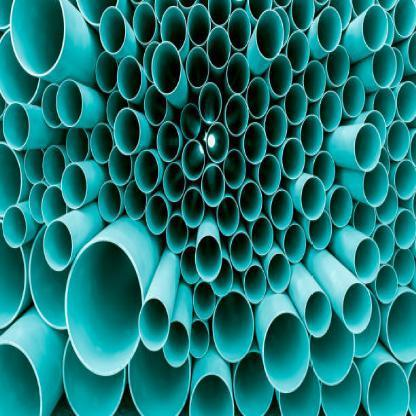pipe: (64, 237, 144, 376), (63, 337, 126, 415), (128, 339, 192, 415), (29, 223, 68, 330), (10, 1, 64, 76), (262, 311, 310, 392), (308, 309, 354, 386), (0, 340, 43, 415), (212, 290, 254, 362), (0, 29, 40, 104), (232, 349, 274, 415), (367, 360, 410, 415), (278, 363, 322, 415), (320, 362, 362, 414), (386, 289, 415, 363), (188, 372, 235, 415), (0, 142, 22, 217), (139, 297, 170, 350), (152, 42, 182, 94), (342, 283, 372, 334), (43, 220, 73, 270), (256, 10, 284, 61), (2, 101, 30, 150), (304, 290, 332, 338), (354, 124, 381, 172), (99, 6, 126, 54), (163, 320, 190, 368), (195, 235, 222, 282), (61, 162, 87, 210), (362, 4, 388, 52), (56, 79, 82, 127), (114, 108, 140, 155), (363, 162, 389, 207), (354, 237, 380, 282), (160, 6, 186, 51), (317, 6, 342, 52), (300, 176, 326, 220), (117, 56, 142, 100), (372, 43, 396, 88), (42, 185, 68, 226), (134, 150, 158, 193), (98, 180, 122, 223), (2, 205, 26, 248), (224, 95, 249, 136), (201, 164, 225, 206), (328, 186, 352, 228), (286, 30, 310, 72), (326, 45, 350, 87), (268, 54, 292, 96), (342, 76, 366, 118), (207, 26, 230, 69), (186, 46, 209, 89), (282, 138, 306, 179), (300, 114, 323, 156), (206, 122, 229, 164), (133, 2, 156, 44), (228, 8, 251, 50), (95, 50, 118, 92), (247, 77, 270, 119), (198, 82, 221, 124), (319, 90, 342, 132), (156, 122, 180, 162), (42, 146, 66, 186), (312, 151, 336, 191), (267, 254, 291, 294), (394, 158, 416, 201), (188, 3, 210, 46), (264, 106, 287, 147), (90, 123, 113, 164), (258, 154, 281, 195), (375, 263, 398, 304), (226, 53, 249, 94), (303, 61, 326, 102), (284, 84, 307, 125), (144, 85, 167, 126), (387, 120, 410, 160), (109, 146, 132, 186), (223, 149, 246, 189), (163, 162, 186, 202), (239, 181, 262, 221), (375, 184, 398, 224), (271, 190, 294, 230), (217, 196, 240, 236), (309, 210, 332, 250), (373, 87, 396, 127), (244, 123, 266, 164), (124, 180, 146, 221), (283, 224, 306, 263), (106, 91, 130, 128), (182, 140, 204, 180), (182, 188, 204, 228), (394, 210, 416, 250), (251, 216, 273, 256), (372, 224, 394, 264), (211, 257, 233, 297), (244, 264, 266, 304), (42, 83, 62, 127), (193, 281, 216, 319), (394, 0, 416, 39), (146, 196, 168, 235), (166, 214, 188, 252), (66, 126, 89, 162), (396, 81, 416, 122), (230, 233, 252, 270), (393, 249, 415, 285), (353, 202, 376, 236), (180, 245, 200, 284), (29, 182, 48, 223), (189, 320, 209, 358), (180, 104, 201, 140), (24, 148, 44, 184), (291, 1, 314, 32), (330, 0, 352, 30), (208, 1, 231, 26), (248, 0, 273, 20)
